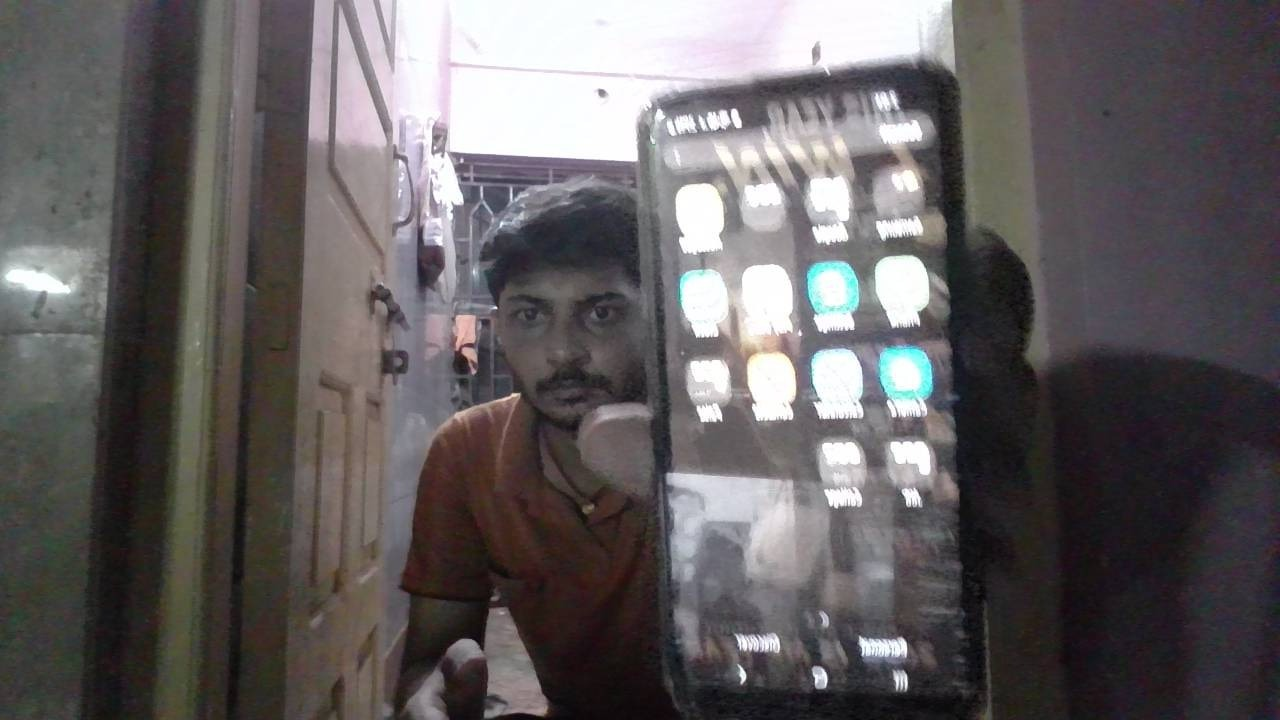red_box: (416, 424, 544, 563)
